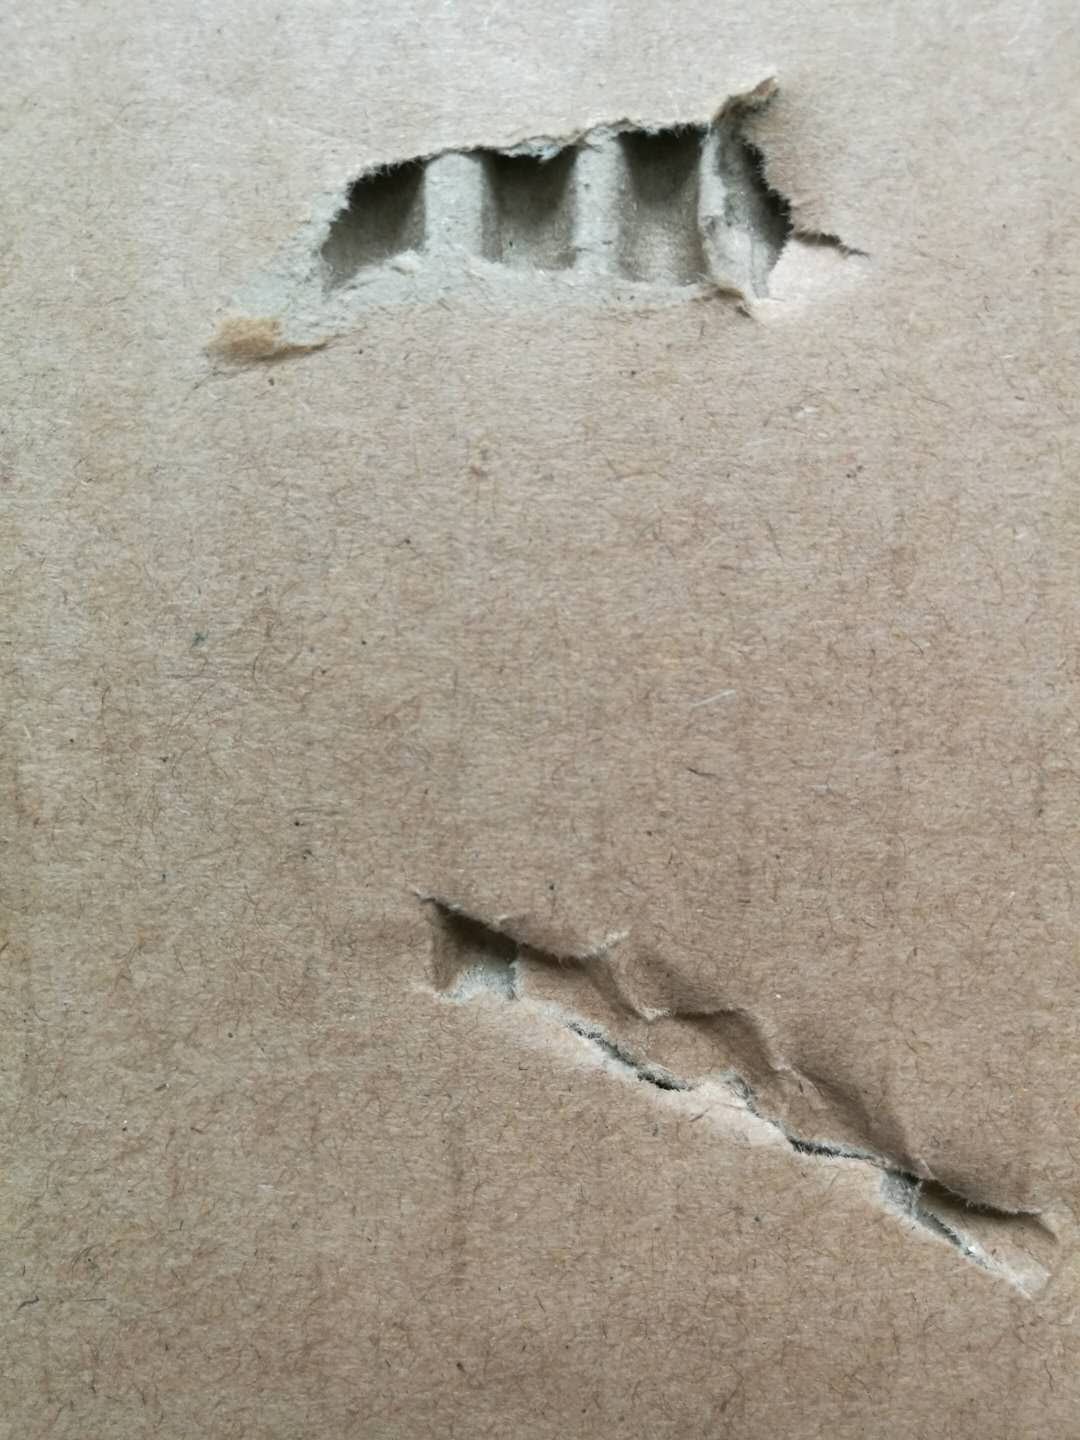defect: (368, 830, 1080, 1354), (166, 45, 935, 442)
